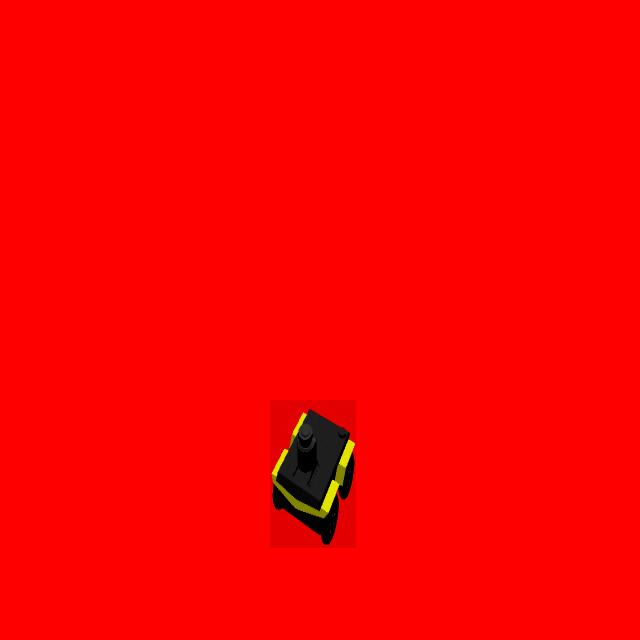jackal: (270, 400, 356, 548)
